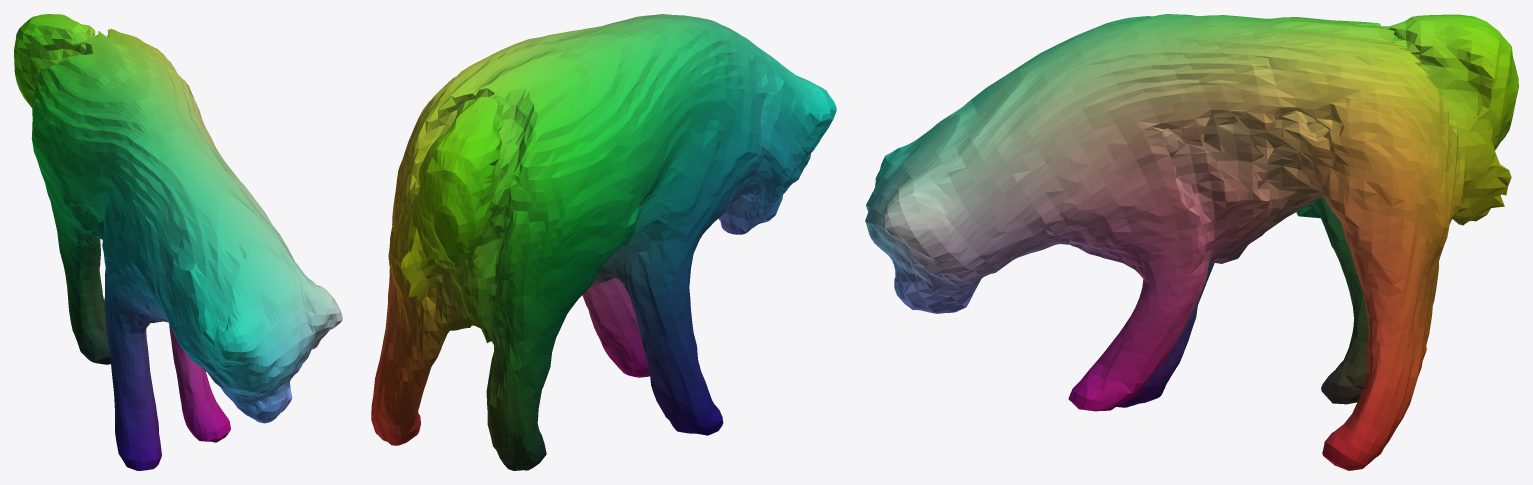
The model's file is shiba-haru-1001-mesh-00067.obj.
The picture shows the model from 3 angles, left to right: view 1: azimuth 30°, elevation 25°; view 2: azimuth 150°, elevation 25°; view 3: azimuth 270°, elevation 25°; orthographic projection. The views are drawn at different scales.
Size of the model in its own units: 0.0499 by 0.0845 by 0.1199.
